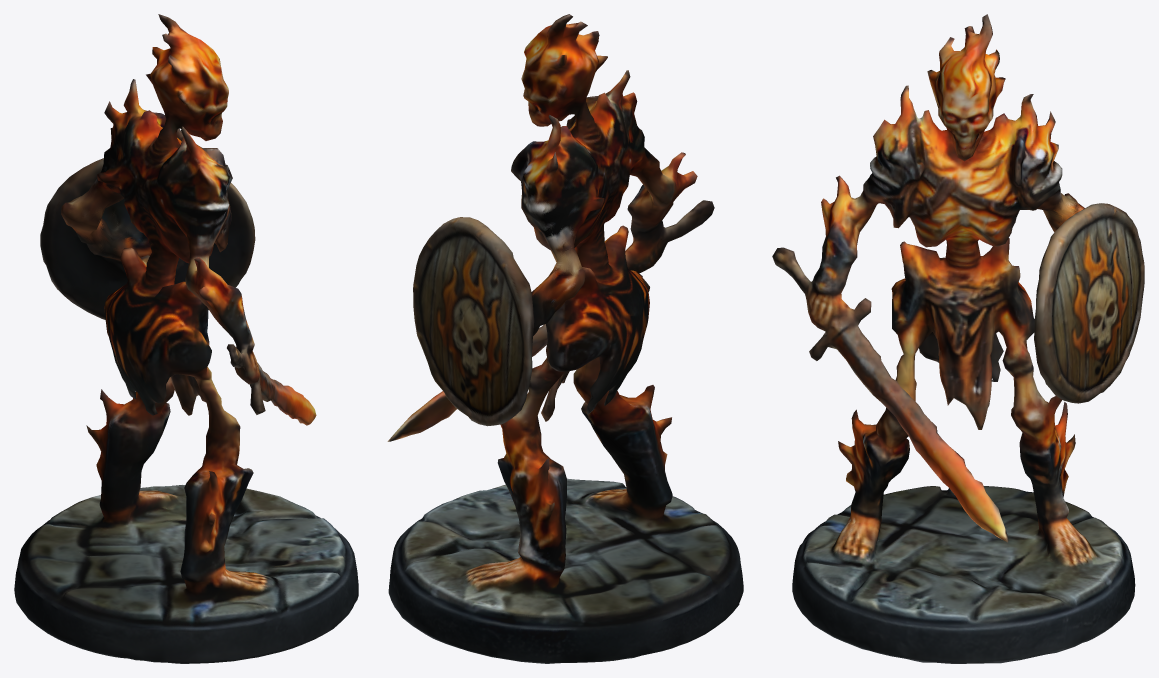
The model's file is burning_skeleton.glb.
3 views of the same model, side by side, from view 1: azimuth 30°, elevation 25°; view 2: azimuth 150°, elevation 25°; view 3: azimuth 270°, elevation 25° (orthographic). The views are drawn at different scales.
Visible parts, largest first — view 1: lagrange_node; view 2: lagrange_node; view 3: lagrange_node.
Boxes of the visible parts, x1,y1,x2,y2 form: lagrange_node: (14, 14, 358, 663); lagrange_node: (387, 14, 743, 663); lagrange_node: (772, 14, 1144, 663).
Size of the model in its own units: 1.1 by 2.01 by 1.19.
Materials: 1 (1 with a texture image).
